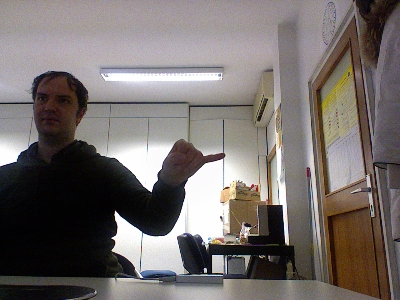小指: (157, 138, 226, 187)
